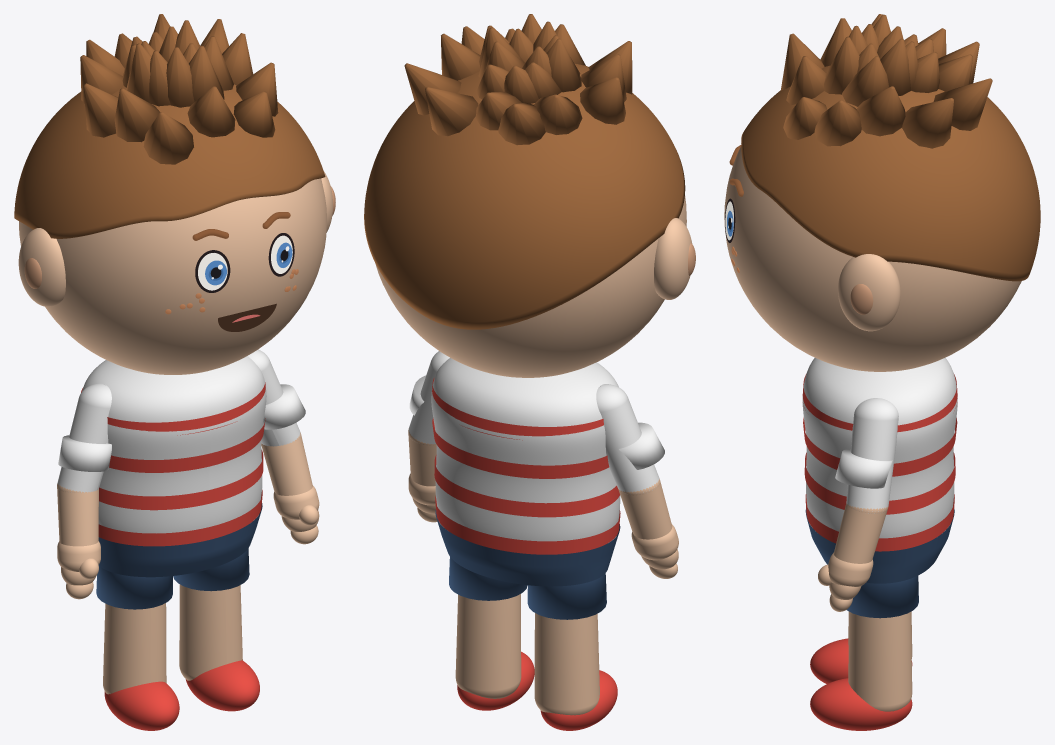
Rendered from broertje.glb.
3 views of the same model, side by side, from view 1: azimuth 30°, elevation 25°; view 2: azimuth 150°, elevation 25°; view 3: azimuth 270°, elevation 25° (orthographic). The views are drawn at different scales.
Parts seen in each view (by area): view 1: broertje_hoofd, broertje_haar, broertje_romp, broertje_been_L, broertje_been_R, broertje_short_heup, broertje_bovenarm_R, broertje_schoen_R, broertje_schoen_L, broertje_oor_R, broertje_short_R, broertje_streep1 (+26 smaller); view 2: broertje_haar, broertje_romp, broertje_hoofd, broertje_been_L, broertje_been_R, broertje_short_heup, broertje_bovenarm_R, broertje_streep1, broertje_short_R, broertje_streep0, broertje_streep2, broertje_oor_R (+24 smaller); view 3: broertje_haar, broertje_hoofd, broertje_romp, broertje_been_L, broertje_bovenarm_L, broertje_oor_L, broertje_schoen_L, broertje_short_heup, broertje_short_L, broertje_onderarm_L, broertje_haar_piek18, broertje_haar_piek16 (+20 smaller).
Part boxes in pixels (x1,y1,x2,y2): broertje_hoofd: (19, 178, 326, 374); broertje_haar: (14, 84, 325, 238); broertje_romp: (82, 356, 266, 533); broertje_been_L: (179, 584, 242, 680); broertje_been_R: (103, 603, 166, 694); broertje_short_heup: (98, 503, 262, 577); broertje_bovenarm_R: (57, 383, 111, 492); broertje_schoen_R: (104, 681, 179, 730); broertje_schoen_L: (185, 660, 259, 711); broertje_oor_R: (18, 228, 65, 306); broertje_short_R: (96, 565, 172, 609); broertje_streep1: (99, 450, 263, 510); broertje_haar: (364, 63, 685, 329); broertje_romp: (431, 358, 620, 542); broertje_hoofd: (375, 196, 686, 377); broertje_been_L: (455, 594, 521, 698); broertje_been_R: (534, 613, 599, 715); broertje_short_heup: (435, 510, 620, 586); broertje_bovenarm_R: (596, 384, 659, 494); broertje_streep1: (434, 455, 619, 517); broertje_short_R: (527, 573, 606, 619); broertje_streep0: (435, 496, 620, 554); broertje_streep2: (432, 418, 609, 478); broertje_oor_R: (654, 218, 692, 299); broertje_haar: (741, 65, 1040, 281); broertje_hoofd: (724, 146, 1021, 371); broertje_romp: (802, 357, 957, 538); broertje_been_L: (848, 612, 912, 711); broertje_bovenarm_L: (846, 398, 898, 513); broertje_oor_L: (838, 254, 900, 331); broertje_schoen_L: (810, 678, 912, 730); broertje_short_heup: (805, 509, 954, 583); broertje_short_L: (846, 576, 918, 618); broertje_onderarm_L: (833, 503, 887, 563); broertje_haar_piek18: (902, 98, 953, 148); broertje_haar_piek16: (856, 86, 905, 136).
Size of the model in its own units: 0.6198 by 1.3 by 0.5481.
